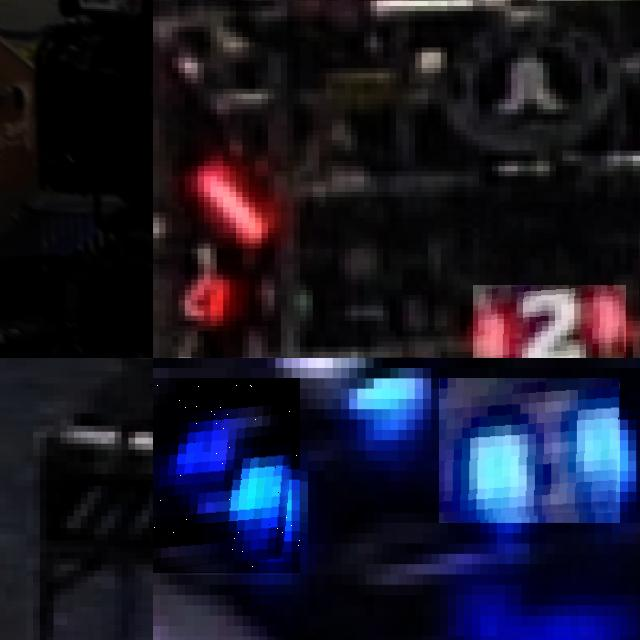B5: (153, 378, 300, 574), (439, 378, 620, 523)
R2: (472, 284, 626, 358)
